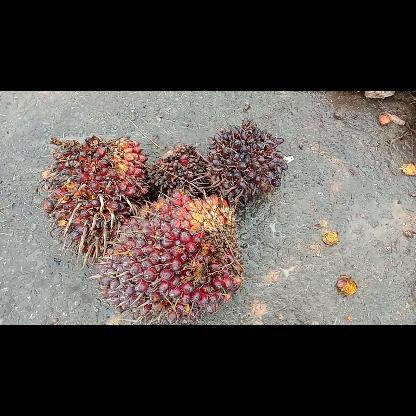TBS abnormal: (198, 117, 290, 213), (147, 144, 208, 194)
TBS masak: (90, 190, 244, 324), (37, 132, 149, 268)
